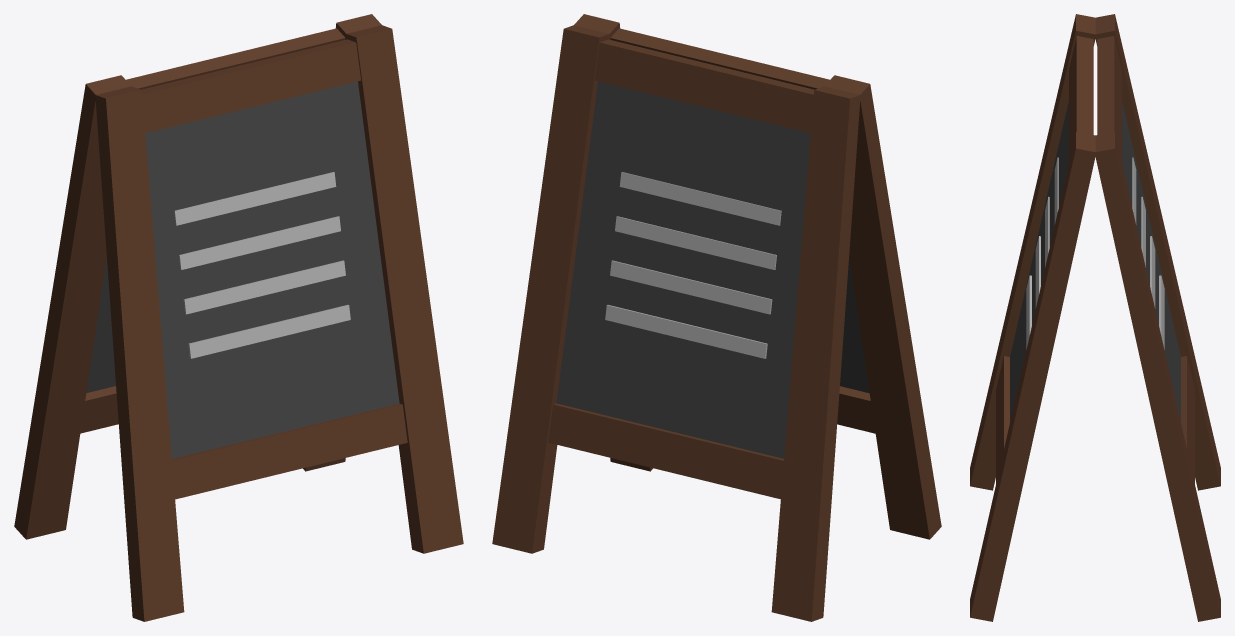
Rendered from SM_Props_Cafe_12.fbx.
3 renders of one model, left to right at view 1: azimuth 30°, elevation 25°; view 2: azimuth 150°, elevation 25°; view 3: azimuth 270°, elevation 25°, orthographic. The views are drawn at different scales.
Visible parts, largest first — view 1: SM_Props_Cafe_12; view 2: SM_Props_Cafe_12; view 3: SM_Props_Cafe_12.
Boxes of the visible parts, bbox=[...] form: SM_Props_Cafe_12: bbox=[14, 14, 463, 621]; SM_Props_Cafe_12: bbox=[492, 14, 941, 621]; SM_Props_Cafe_12: bbox=[970, 14, 1220, 621].
Bounding box in the file's own units: 0.5645 × 0.8167 × 0.3987.
